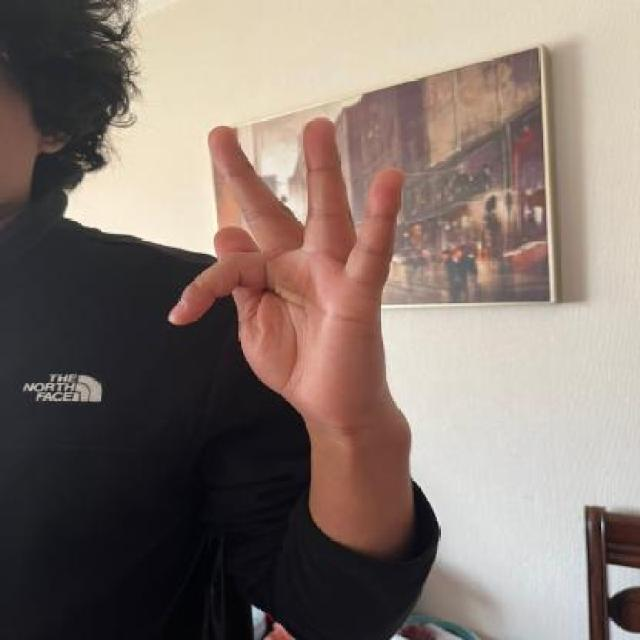F: (163, 114, 422, 414)
